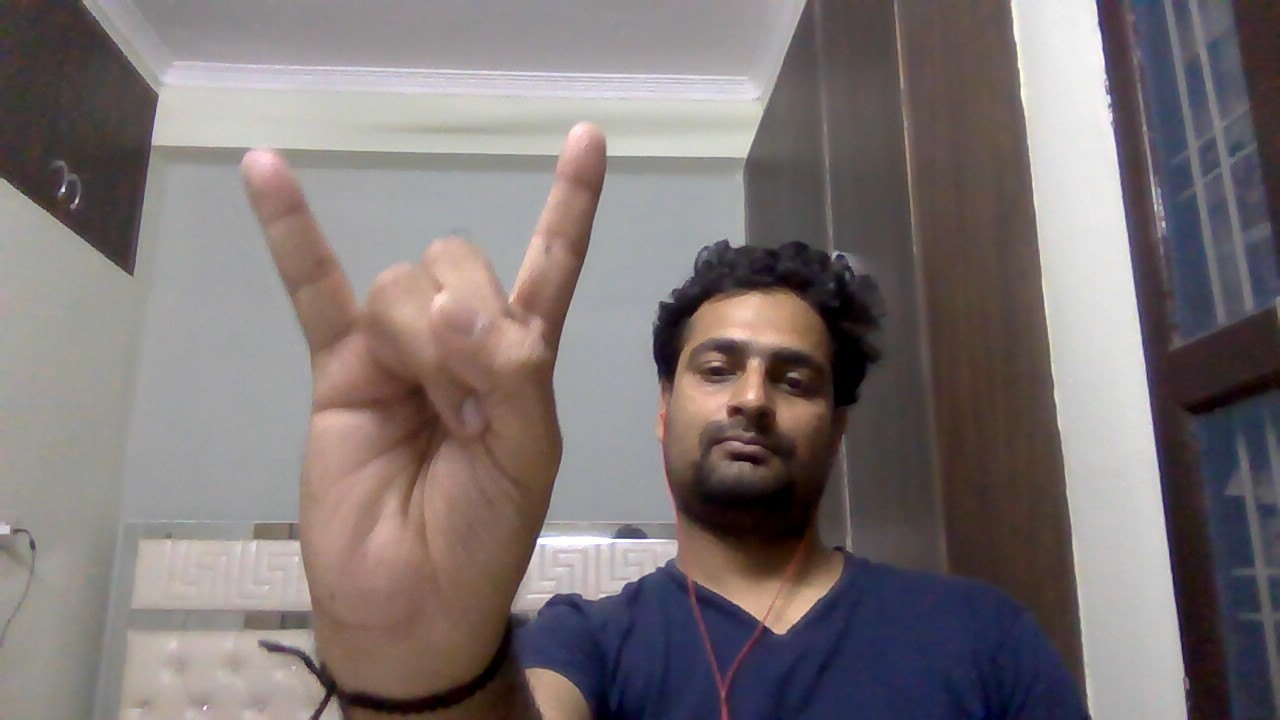Select All: (226, 112, 623, 634)
